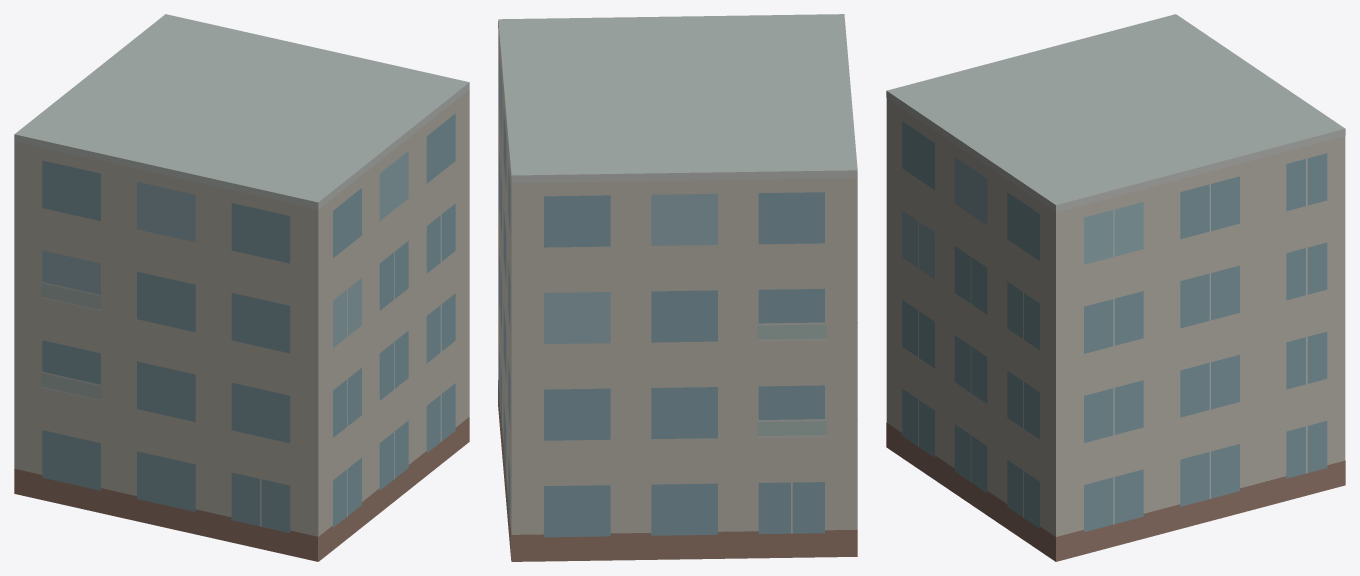
The model's file is residential-af099f90-b33d-4f59-84cb-f53c3ef57417.glb.
The picture shows the model from 3 angles, left to right: view 1: azimuth 30°, elevation 25°; view 2: azimuth 150°, elevation 25°; view 3: azimuth 270°, elevation 25°; orthographic projection. The views are drawn at different scales.
Parts seen in each view (by area): view 1: residential-af099f90-b33d-4f59-84cb-f53c3ef57417.tmp; view 2: residential-af099f90-b33d-4f59-84cb-f53c3ef57417.tmp; view 3: residential-af099f90-b33d-4f59-84cb-f53c3ef57417.tmp.
Part boxes in pixels (box(x1,y1,x2,y2)): residential-af099f90-b33d-4f59-84cb-f53c3ef57417.tmp: box(14, 14, 469, 561); residential-af099f90-b33d-4f59-84cb-f53c3ef57417.tmp: box(498, 14, 857, 561); residential-af099f90-b33d-4f59-84cb-f53c3ef57417.tmp: box(886, 14, 1345, 561).
Size of the model in its own units: 14.03 by 12.2 by 14.24.
